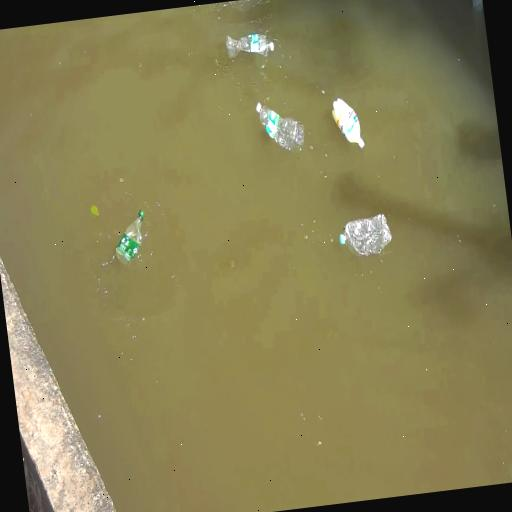plastic: (256, 103, 304, 150), (339, 214, 391, 257), (332, 99, 363, 148), (115, 210, 143, 263), (225, 34, 273, 58)
